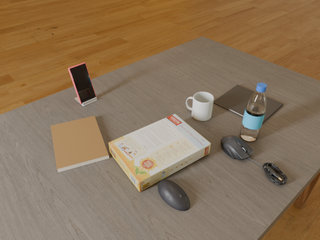book: (51, 116, 109, 172), (214, 85, 283, 124)
bottle: (240, 83, 267, 141)
box: (109, 114, 211, 192)
cup: (186, 92, 214, 121)
mouse: (158, 180, 190, 211), (221, 136, 253, 160)
phone: (68, 63, 96, 104)
